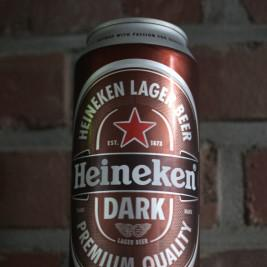beer: (72, 16, 202, 267)
